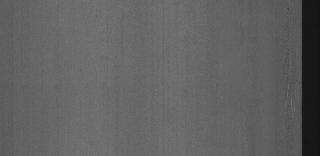silk spot: (276, 78, 300, 118)
